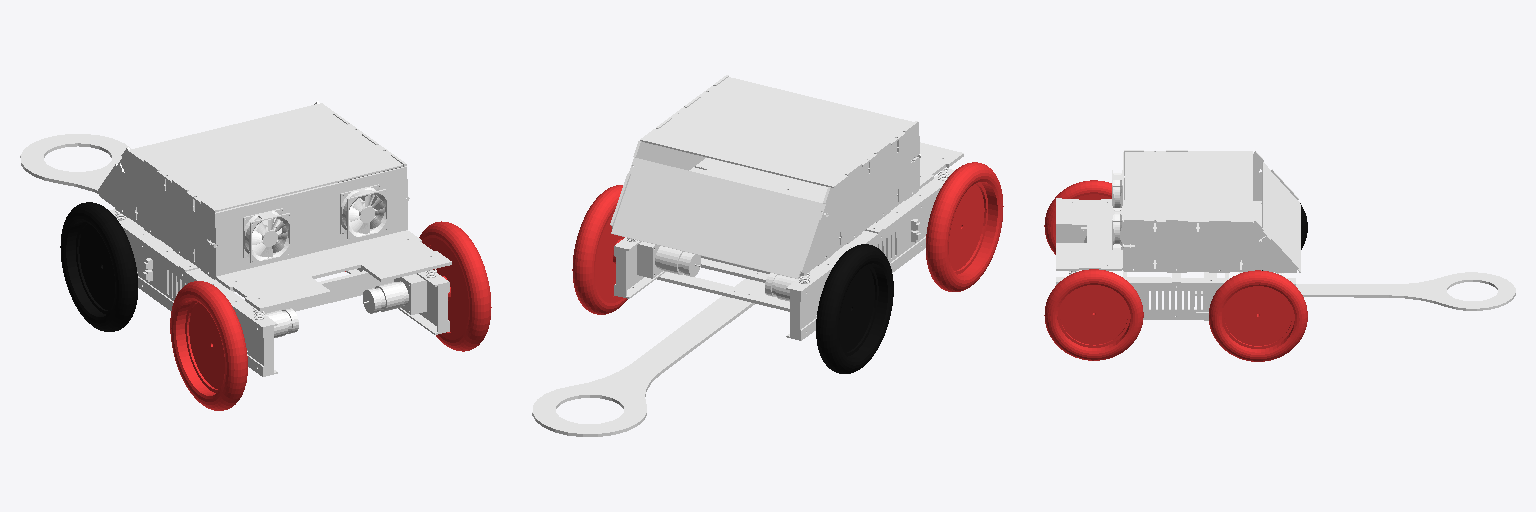
The robot description file, URDF, robot "minesweeper_revolute":
<robot
  name="minesweeper_revolute">
  <link
    name="base_link">
    <inertial>
      <origin
        xyz="0.0101433552629742 -0.192322168082269 0.189852556981618"
        rpy="0 0 0" />
      <mass
        value="4.58359555572016" />
      <inertia
        ixx="0.0760321104523467"
        ixy="-3.43185580070933E-05"
        ixz="-0.000120186704237001"
        iyy="0.0837563494744535"
        iyz="-0.00256045265833033"
        izz="0.11566932850329" />
    </inertial>
    <visual>
      <origin
        xyz="0 0 0"
        rpy="0 0 0" />
      <geometry>
        <mesh
          filename="package://minesweeper_revolute/meshes/base_link.STL" />
      </geometry>
      <material
        name="">
        <color
          rgba="1 1 1 1" />
      </material>
    </visual>
    <collision>
      <origin
        xyz="0 0 0"
        rpy="0 0 0" />
      <geometry>
        <mesh
          filename="package://minesweeper_revolute/meshes/base_link.STL" />
      </geometry>
    </collision>
  </link>
  <link
    name="metal_detector">
    <inertial>
      <origin
        xyz="1.0772632785816E-15 -0.22806788732392 4.16333634234434E-17"
        rpy="0 0 0" />
      <mass
        value="0.331064296239242" />
      <inertia
        ixx="0"
        ixy="0"
        ixz="0"
        iyy="0"
        iyz="0"
        izz="0" />
    </inertial>
    <visual>
      <origin
        xyz="0 0 0"
        rpy="0 0 0" />
      <geometry>
        <mesh
          filename="package://minesweeper_revolute/meshes/metal_detector.STL" />
      </geometry>
      <material
        name="">
        <color
          rgba="1 1 1 1" />
      </material>
    </visual>
    <collision>
      <origin
        xyz="0 0 0"
        rpy="0 0 0" />
      <geometry>
        <mesh
          filename="package://minesweeper_revolute/meshes/metal_detector.STL" />
      </geometry>
    </collision>
  </link>
  <joint
    name="metal_detector_joint"
    type="fixed">
    <origin
      xyz="0.010590451143664 0.476680011833437 0.0686081860020298"
      rpy="-0.00794792897064664 0 0" />
    <parent
      link="base_link" />
    <child
      link="metal_detector" />
    <axis
      xyz="0 0 0" />
  </joint>
  <link
    name="lwheel_top">
    <inertial>
      <origin
        xyz="-0.00519285108721998 1.38777878078145E-17 -6.1409211049579E-16"
        rpy="0 0 0" />
      <mass
        value="0.919521013052642" />
      <inertia
        ixx="4.68273058383843E-31"
        ixy="-6.24338586096904E-20"
        ixz="-3.94871222062398E-18"
        iyy="3.33293690650387E-05"
        iyz="0"
        izz="3.33293690650387E-05" />
    </inertial>
    <visual>
      <origin
        xyz="0 0 0"
        rpy="0 0 0" />
      <geometry>
        <mesh
          filename="package://minesweeper_revolute/meshes/lwheel_top.STL" />
      </geometry>
      <material
        name="">
        <color
          rgba="0.0980392156862745 0.0980392156862745 0.0980392156862745 1" />
      </material>
    </visual>
    <collision>
      <origin
        xyz="0 0 0"
        rpy="0 0 0" />
      <geometry>
        <mesh
          filename="package://minesweeper_revolute/meshes/lwheel_top.STL" />
      </geometry>
    </collision>
  </link>
  <joint
    name="lwheel_top_joint"
    type="revolute">
    <origin
      xyz="-0.23286 -0.019657 0.11955"
      rpy="1.2329 0 3.1416" />
    <parent
      link="base_link" />
    <child
      link="lwheel_top" />
    <axis
      xyz="1 0 0" />
    <limit
      lower="0"
      upper="0"
      effort="0"
      velocity="0" />
  </joint>
  <link
    name="rwheel_top">
    <inertial>
      <origin
        xyz="8.60422844084496E-16 3.05311331771918E-16 -0.00526226622066417"
        rpy="0 0 0" />
      <mass
        value="0.919521013052642" />
      <inertia
        ixx="3.33293690650388E-05"
        ixy="-1.71157606348136E-31"
        ixz="4.17020283687496E-18"
        iyy="3.33293690650388E-05"
        iyz="1.36790252507971E-18"
        izz="5.77944630933797E-31" />
    </inertial>
    <visual>
      <origin
        xyz="0 0 0"
        rpy="0 0 0" />
      <geometry>
        <mesh
          filename="package://minesweeper_revolute/meshes/rwheel_top.STL" />
      </geometry>
      <material
        name="">
        <color
          rgba="0.964705882352941 0.254901960784314 0.254901960784314 1" />
      </material>
    </visual>
    <collision>
      <origin
        xyz="0 0 0"
        rpy="0 0 0" />
      <geometry>
        <mesh
          filename="package://minesweeper_revolute/meshes/rwheel_top.STL" />
      </geometry>
    </collision>
  </link>
  <joint
    name="rwheel_top_joint"
    type="revolute">
    <origin
      xyz="0.24359 -0.019657 0.11955"
      rpy="-1.5708 6.123E-17 1.5708" />
    <parent
      link="base_link" />
    <child
      link="rwheel_top" />
    <axis
      xyz="1 0 0" />
    <limit
      lower="0"
      upper="0"
      effort="0"
      velocity="0" />
  </joint>
  <link
    name="lwheel_bot">
    <inertial>
      <origin
        xyz="7.7715611723761E-16 3.05311331771918E-16 -0.00526226622066422"
        rpy="0 0 0" />
      <mass
        value="0.919521013052642" />
      <inertia
        ixx="3.33293690650385E-05"
        ixy="-1.62293732358976E-31"
        ixz="3.64774006687922E-18"
        iyy="3.33293690650385E-05"
        iyz="1.48189440216968E-18"
        izz="4.65348472006626E-31" />
    </inertial>
    <visual>
      <origin
        xyz="0 0 0"
        rpy="0 0 0" />
      <geometry>
        <mesh
          filename="package://minesweeper_revolute/meshes/lwheel_bot.STL" />
      </geometry>
      <material
        name="">
        <color
          rgba="0.964705882352941 0.254901960784314 0.254901960784314 1" />
      </material>
    </visual>
    <collision>
      <origin
        xyz="0 0 0"
        rpy="0 0 0" />
      <geometry>
        <mesh
          filename="package://minesweeper_revolute/meshes/lwheel_bot.STL" />
      </geometry>
    </collision>
  </link>
  <joint
    name="lwheel_bot_joint"
    type="revolute">
    <origin
      xyz="-0.22241 -0.39965 0.12257"
      rpy="1.5708 6.123E-17 1.5708" />
    <parent
      link="base_link" />
    <child
      link="lwheel_bot" />
    <axis
      xyz="1 0 0" />
    <limit
      lower="0"
      upper="0"
      effort="0"
      velocity="0" />
  </joint>
  <link
    name="rwheel_bot">
    <inertial>
      <origin
        xyz="8.88178419700125E-16 3.05311331771918E-16 -0.00526226622066425"
        rpy="0 0 0" />
      <mass
        value="0.919521013052642" />
      <inertia
        ixx="3.33293690650391E-05"
        ixy="-1.66742154335168E-31"
        ixz="3.95171840578586E-18"
        iyy="3.33293690650391E-05"
        iyz="1.40589981744305E-18"
        izz="5.27974210896059E-31" />
    </inertial>
    <visual>
      <origin
        xyz="0 0 0"
        rpy="0 0 0" />
      <geometry>
        <mesh
          filename="package://minesweeper_revolute/meshes/rwheel_bot.STL" />
      </geometry>
      <material
        name="">
        <color
          rgba="0.964705882352941 0.254901960784314 0.254901960784314 1" />
      </material>
    </visual>
    <collision>
      <origin
        xyz="0 0 0"
        rpy="0 0 0" />
      <geometry>
        <mesh
          filename="package://minesweeper_revolute/meshes/rwheel_bot.STL" />
      </geometry>
    </collision>
  </link>
  <joint
    name="rwheel_bot_joint"
    type="revolute">
    <origin
      xyz="0.24359 -0.39965 0.12257"
      rpy="-1.5708 6.123E-17 1.5708" />
    <parent
      link="base_link" />
    <child
      link="rwheel_bot" />
    <axis
      xyz="1 0 0" />
    <limit
      lower="0"
      upper="0"
      effort="0"
      velocity="0" />
  </joint>
</robot>

--- What the picture shows (computed from the rendered views, not written in the file) ---
3 views of the same robot in one strip: view 1: azimuth 30°, elevation 25°; view 2: azimuth 150°, elevation 25°; view 3: azimuth 270°, elevation 25° (orthographic).
Model minesweeper_revolute with 6 links and 5 joints (4 revolute, 1 fixed), rooted at base_link, posed all joints at 0.
Visible links, largest first — view 1: base_link, lwheel_bot, lwheel_top, rwheel_bot, metal_detector; view 2: base_link, metal_detector, lwheel_top, lwheel_bot, rwheel_top; view 3: base_link, rwheel_top, rwheel_bot, metal_detector, lwheel_bot.
Link boxes in pixels (x1,y1,x2,y2): base_link: (98,101,451,376); lwheel_bot: (170,281,247,410); lwheel_top: (60,202,137,331); rwheel_bot: (419,221,491,351); metal_detector: (20,134,130,193); base_link: (610,75,963,340); metal_detector: (532,278,766,436); lwheel_top: (816,244,893,373); lwheel_bot: (926,162,1003,291); rwheel_top: (572,185,627,314); base_link: (1056,150,1300,320); rwheel_top: (1209,270,1307,361); rwheel_bot: (1044,269,1143,360); metal_detector: (1195,272,1515,310); lwheel_bot: (1044,180,1111,270).
Size in the robot's own frame: 0.5269 by 1.09 by 0.3361 metres.
Meshes: 6 distinct files referenced, 6 mesh visuals loaded (6 binary STL).